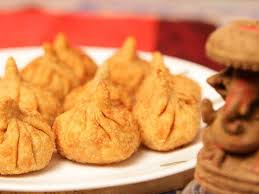modak: (1, 46, 200, 162)
